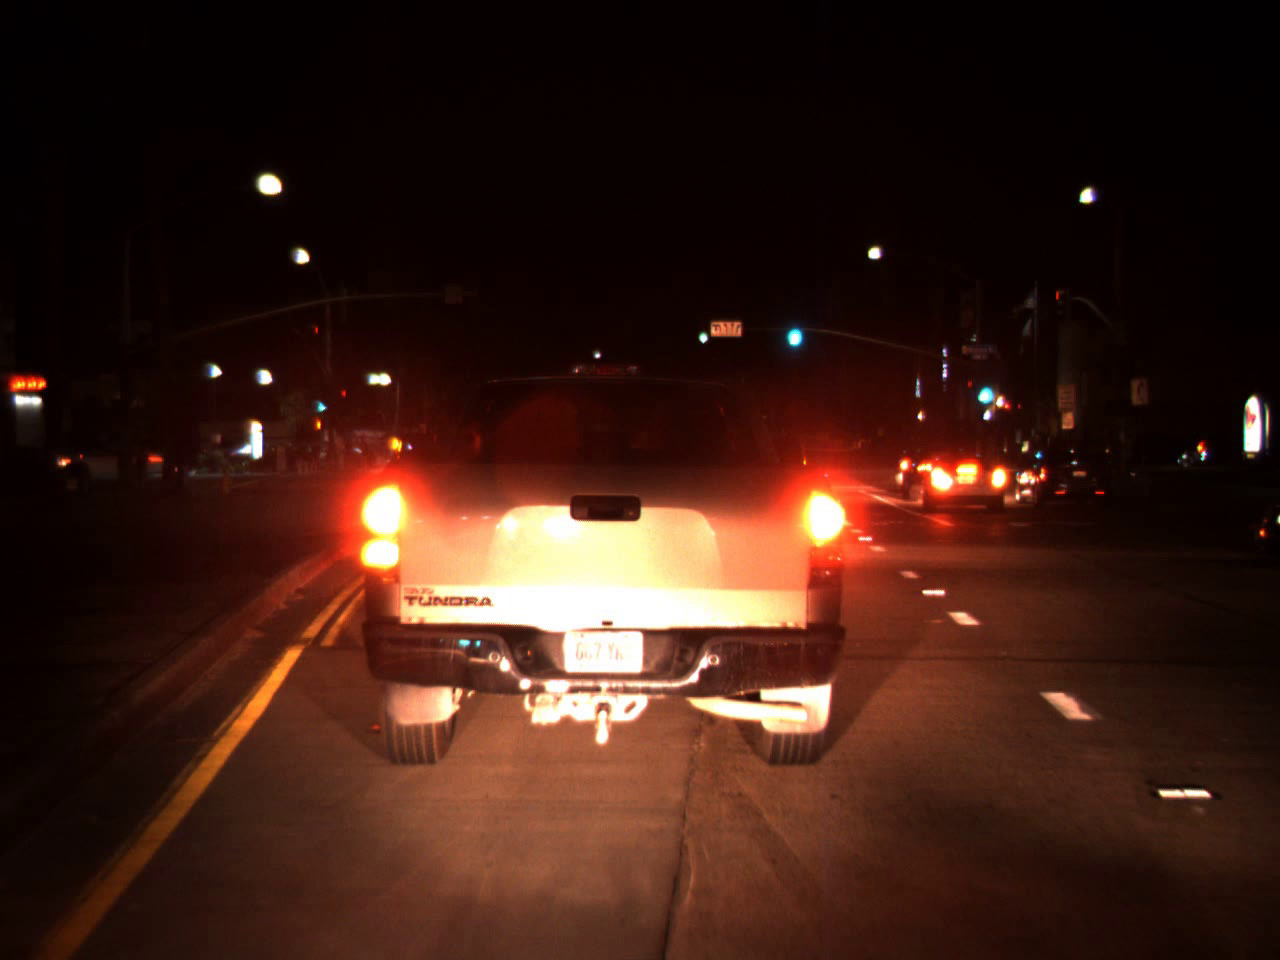go: (781, 306, 804, 354), (973, 372, 994, 408), (696, 320, 708, 347), (316, 393, 325, 414)
